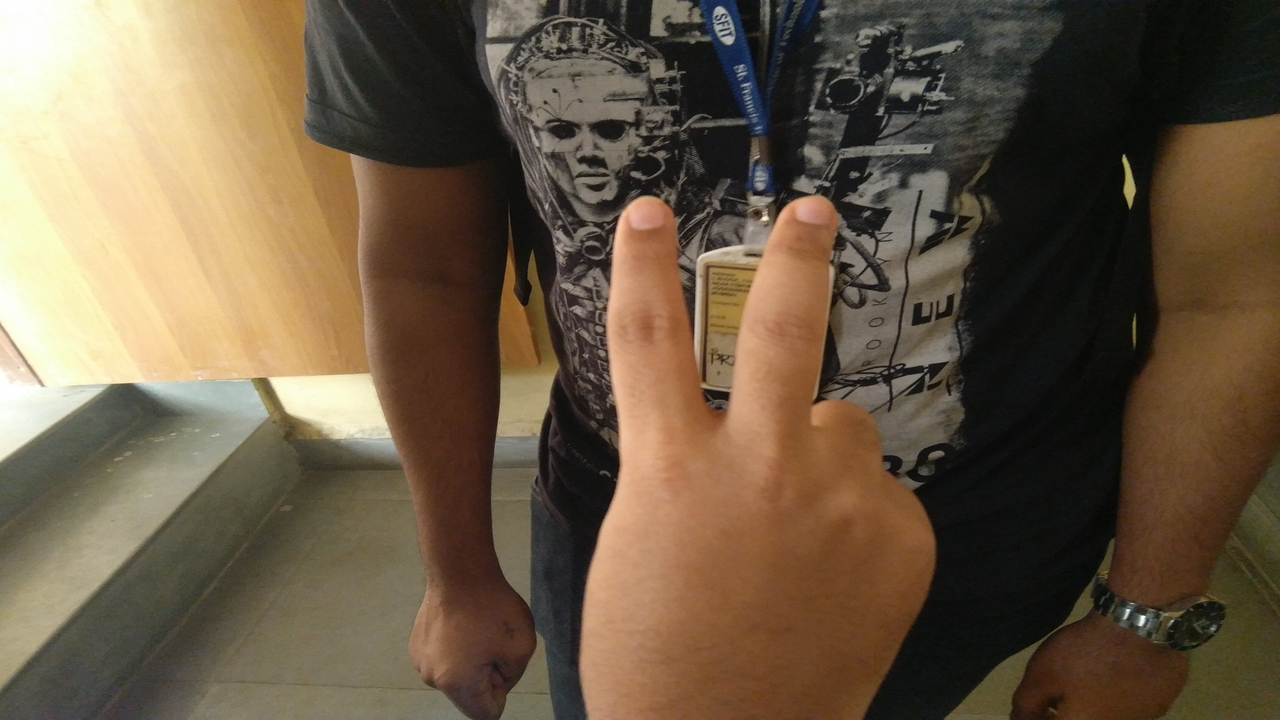fingertip: (774, 184, 840, 252), (610, 190, 674, 252)
